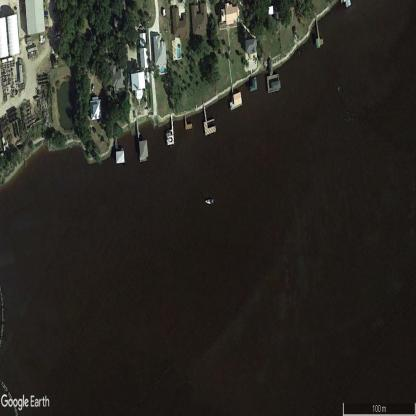ship: (205, 199, 213, 204), (167, 138, 172, 142)
